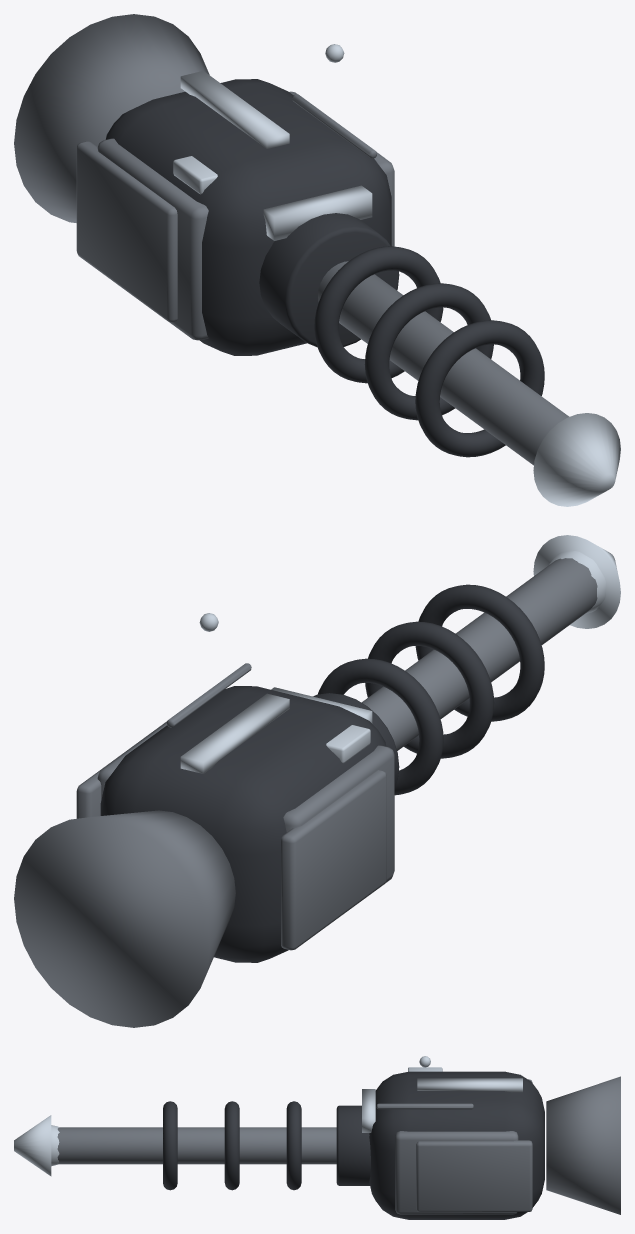
File: weapon_drone_helios.glb
The picture shows the model from 3 angles, top to bottom: view 1: azimuth 30°, elevation 25°; view 2: azimuth 150°, elevation 25°; view 3: azimuth 270°, elevation 25°; orthographic projection. The views are drawn at different scales.
Parts seen in each view (by area): view 1: weapon_drone_helios; view 2: weapon_drone_helios; view 3: weapon_drone_helios.
Part boxes in pixels (x1=…): weapon_drone_helios: x1=14, y1=14, x2=620, y2=506; weapon_drone_helios: x1=14, y1=535, x2=620, y2=1027; weapon_drone_helios: x1=14, y1=1056, x2=620, y2=1219.
Size of the model in its own units: 0.5808 by 0.7068 by 2.28.
